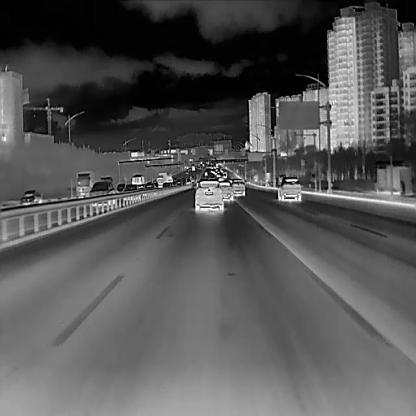car: (194, 181, 223, 212), (89, 180, 113, 205), (278, 177, 300, 202), (74, 170, 90, 197), (18, 188, 40, 204), (218, 180, 233, 201), (124, 184, 140, 200), (231, 178, 244, 196), (157, 170, 165, 186), (131, 174, 142, 184), (115, 182, 124, 193), (164, 174, 171, 183), (222, 171, 227, 178), (216, 172, 220, 177), (204, 171, 207, 176), (191, 165, 194, 170), (220, 168, 223, 172)
